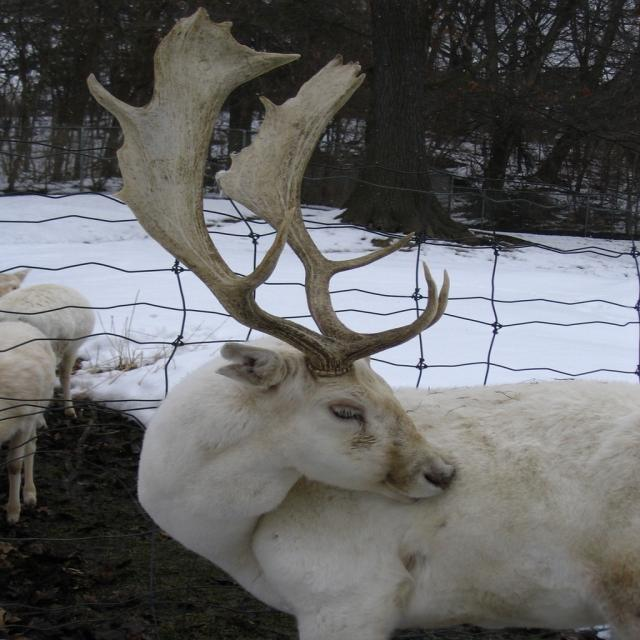Deer: (86, 6, 640, 640), (0, 282, 94, 431), (0, 321, 56, 523), (0, 267, 29, 297)
